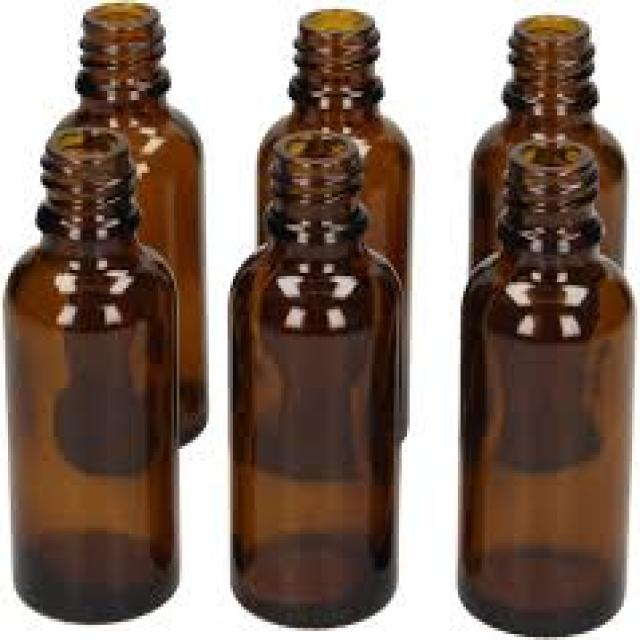glass: (0, 124, 174, 622), (461, 136, 632, 637), (228, 124, 396, 625), (48, 0, 204, 446), (254, 6, 407, 440), (469, 12, 621, 279)
